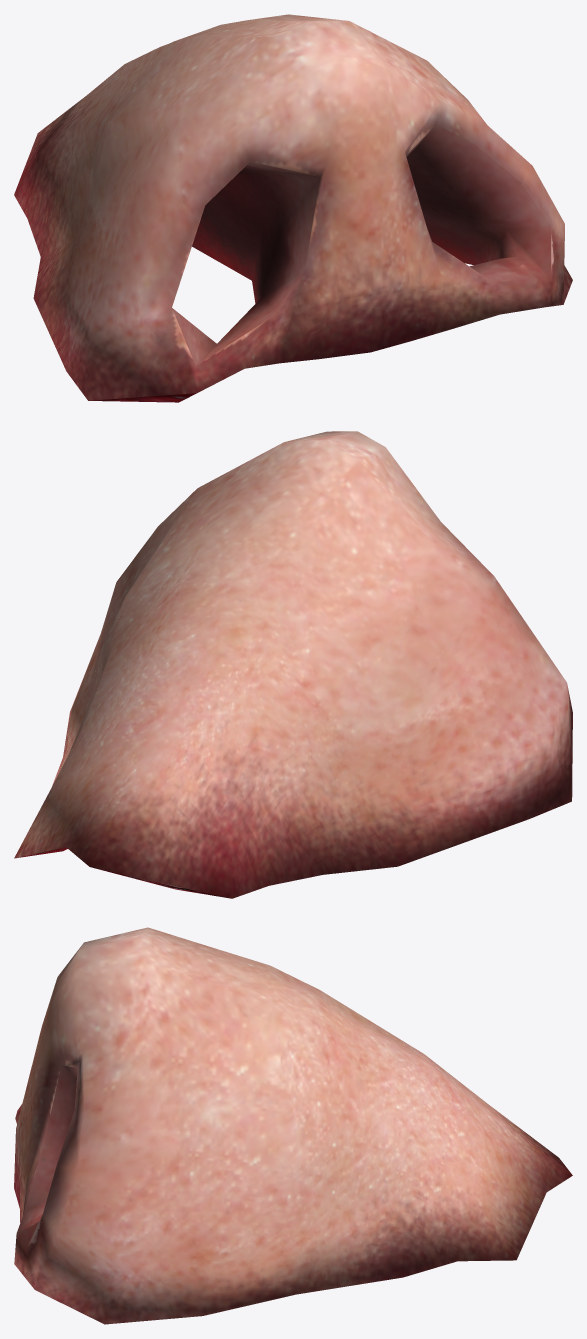
Rendered from Nose_4_low.fbx.
3 views of the same model, one above another, from view 1: azimuth 30°, elevation 25°; view 2: azimuth 150°, elevation 25°; view 3: azimuth 270°, elevation 25° (orthographic). The views are drawn at different scales.
Parts seen in each view (by area): view 1: nose_4_low; view 2: nose_4_low; view 3: nose_4_low.
Part boxes in pixels (<box>): nose_4_low: <box>14,14,572,402</box>; nose_4_low: <box>14,431,572,898</box>; nose_4_low: <box>14,927,572,1324</box>.
Bounding box in the file's own units: 0.042 × 0.0264 × 0.046.
